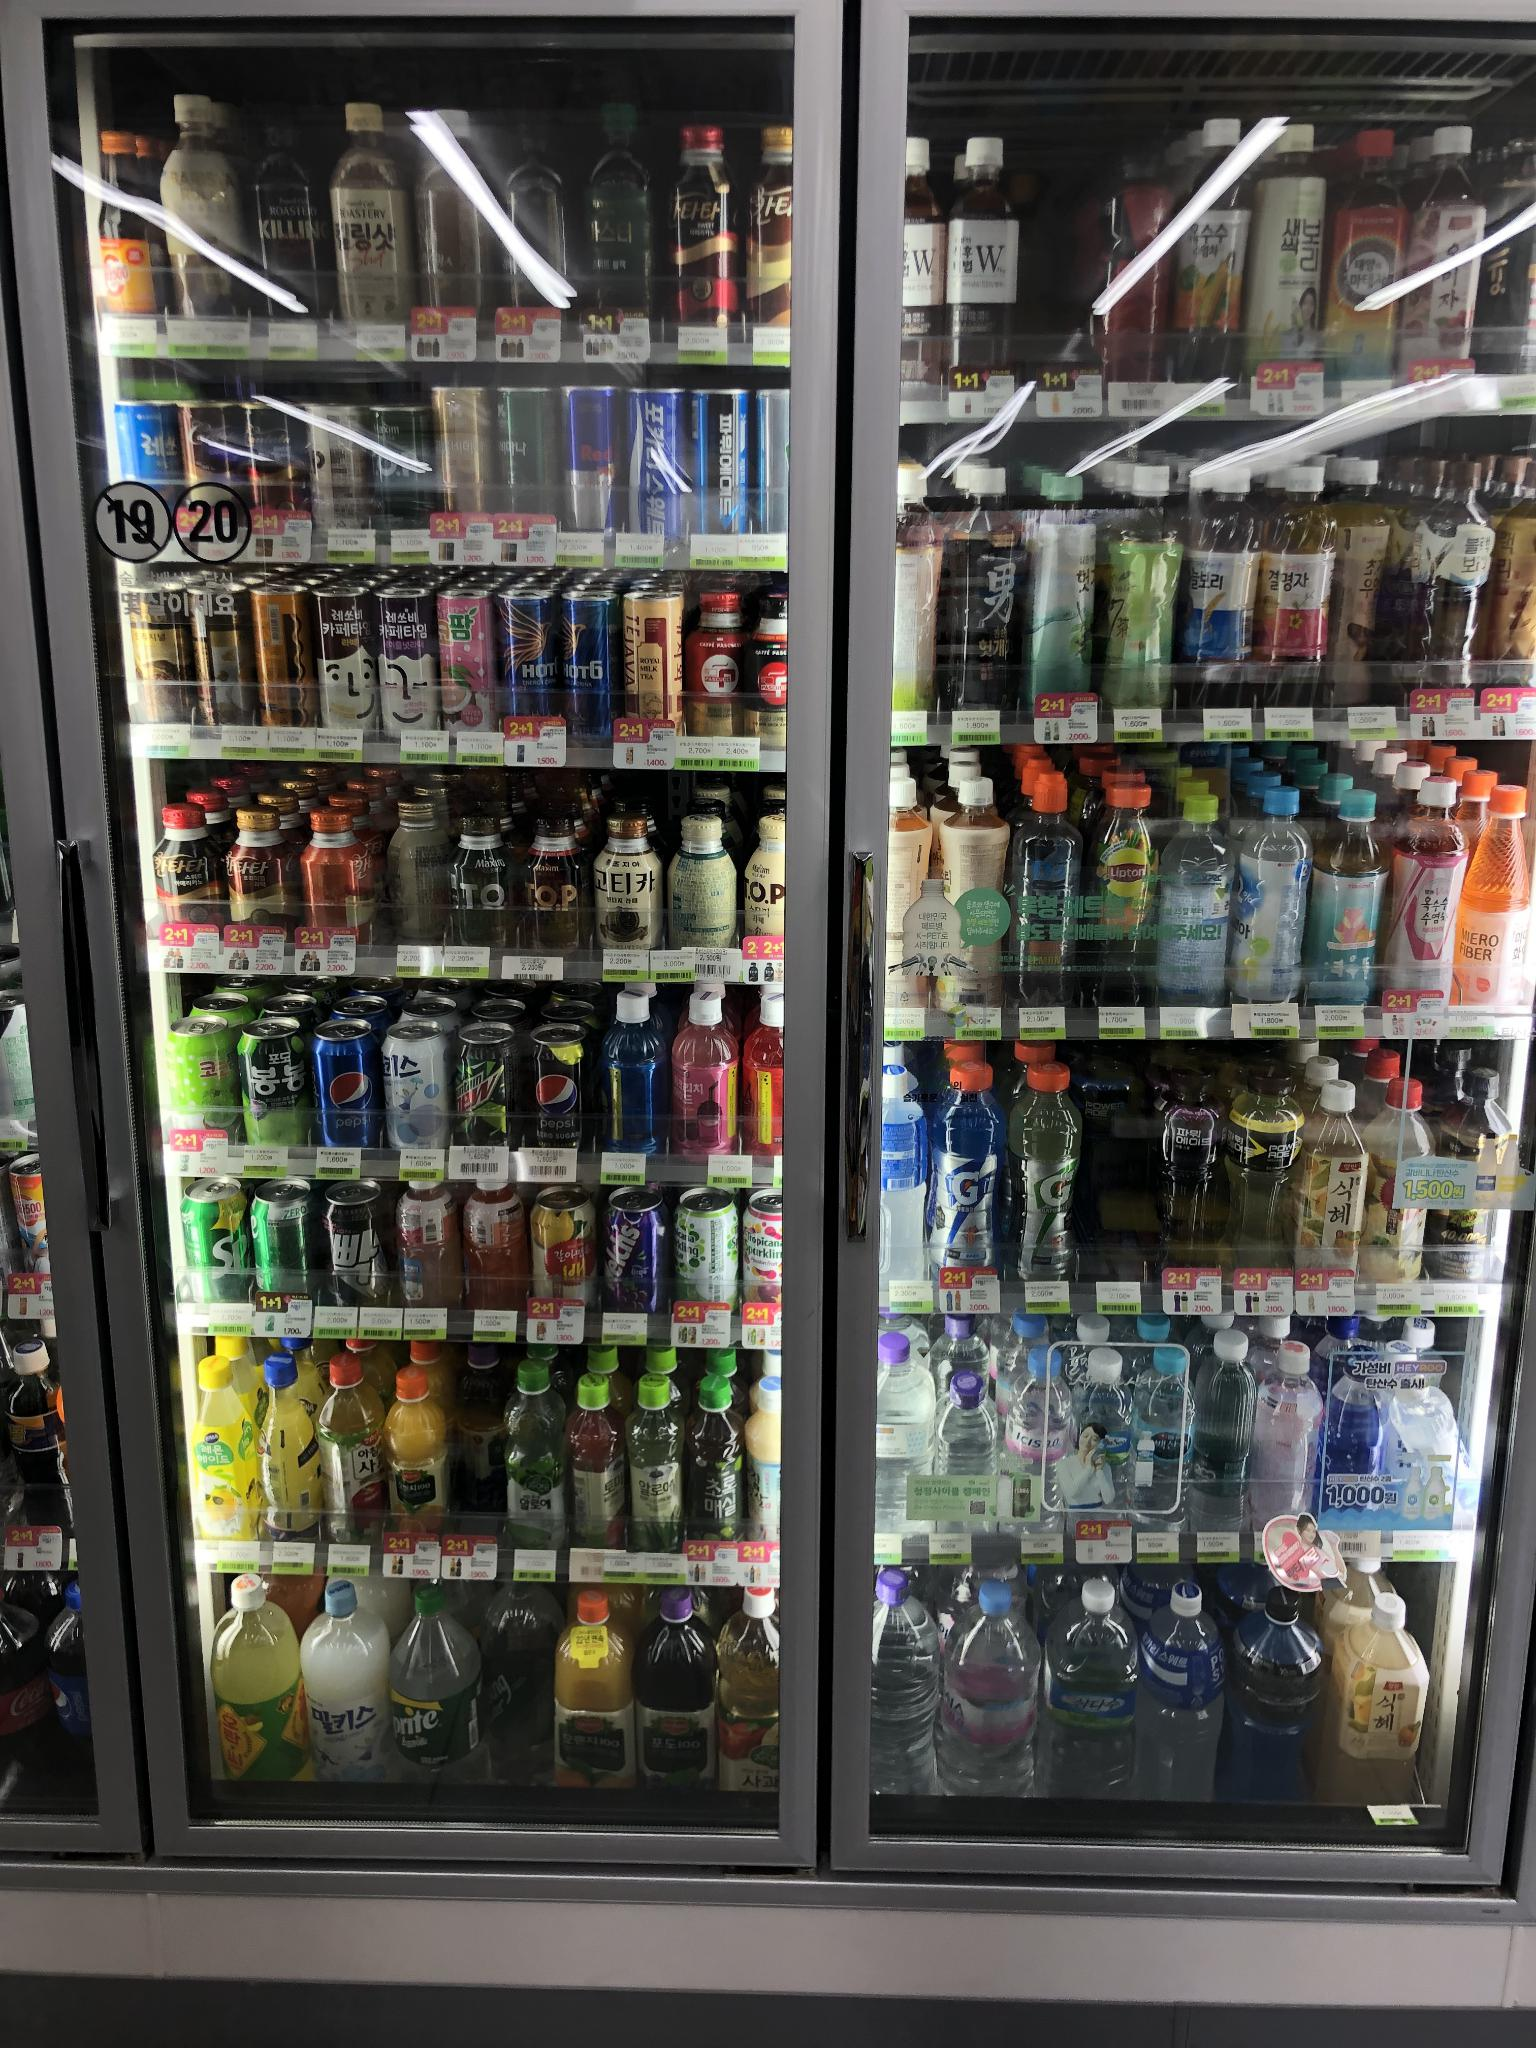TOP_black: (510, 808, 594, 955)
gatorade_lemon: (1004, 1058, 1086, 1285)
haneulbori: (1181, 460, 1255, 708)
heotgaecha: (949, 464, 1026, 727)
hotsix_org: (495, 584, 563, 745), (555, 585, 623, 743)
pepsi_zero: (528, 1022, 595, 1148)
welchs_grape: (603, 1180, 676, 1322)
